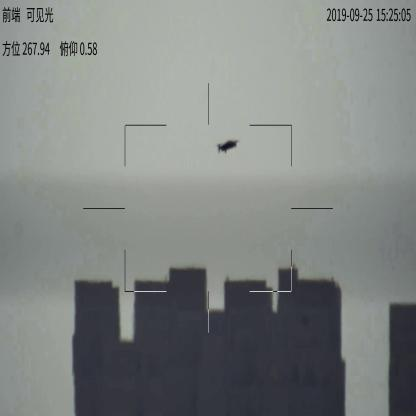uav: (217, 137, 239, 156)
